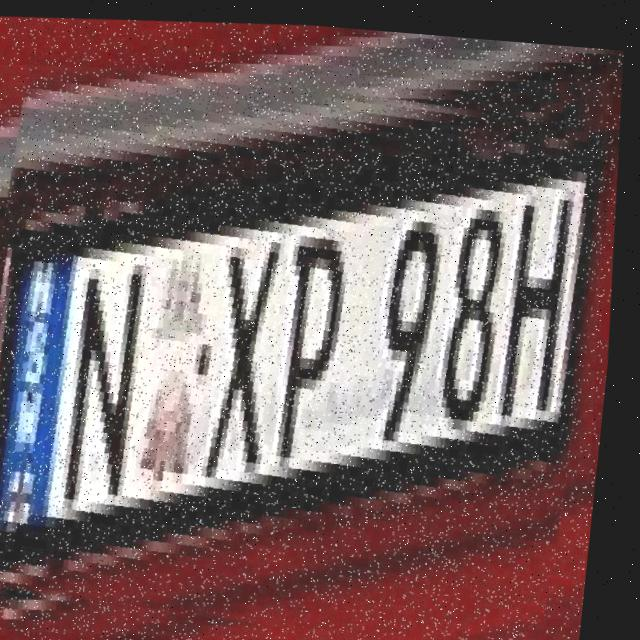LicensePlate: (0, 32, 637, 640)
